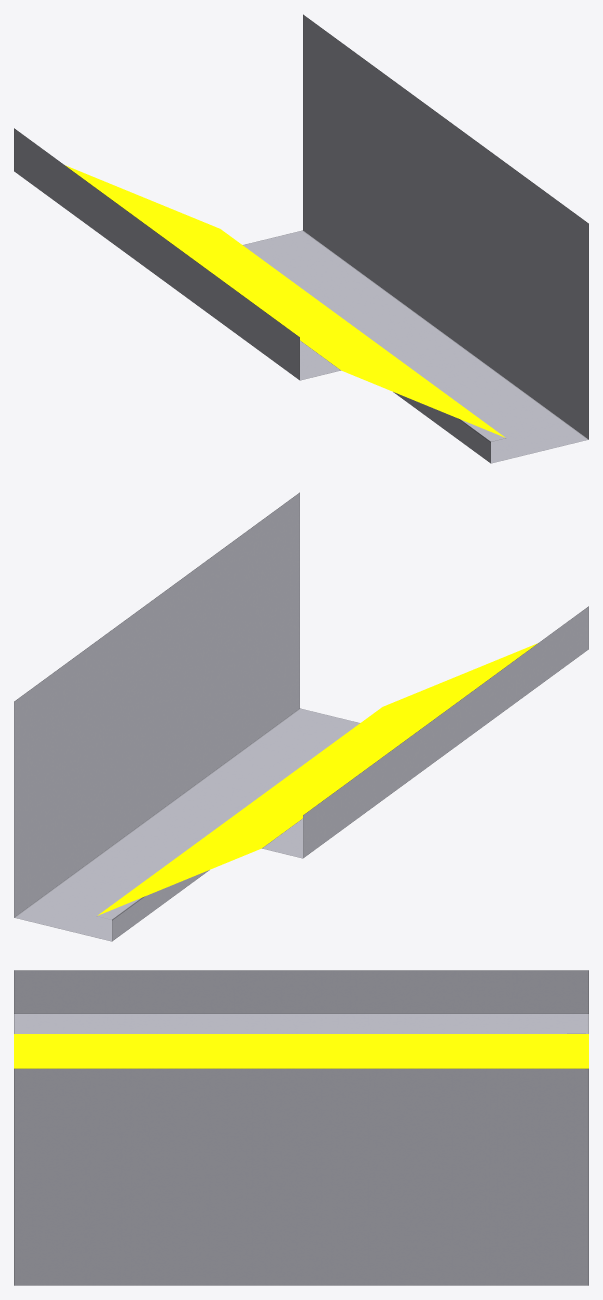
Rendered from Wall_Roof_Half_01.FBX.
3 views of the same model, one above another, from view 1: azimuth 30°, elevation 25°; view 2: azimuth 150°, elevation 25°; view 3: azimuth 270°, elevation 25° (orthographic).
Parts seen in each view (by area): view 1: Wall_Roof_Half_01; view 2: Wall_Roof_Half_01; view 3: Wall_Roof_Half_01.
Boxes of the visible parts, <box> form: Wall_Roof_Half_01: <box>14,14,588,463</box>; Wall_Roof_Half_01: <box>14,492,588,941</box>; Wall_Roof_Half_01: <box>14,970,588,1285</box>.
Size of the model in its own units: 7 by 5 by 12.
2 materials, 1 textured.
